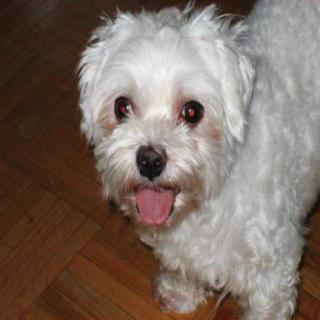dog: (70, 6, 260, 241)
nose: (135, 140, 169, 183)
